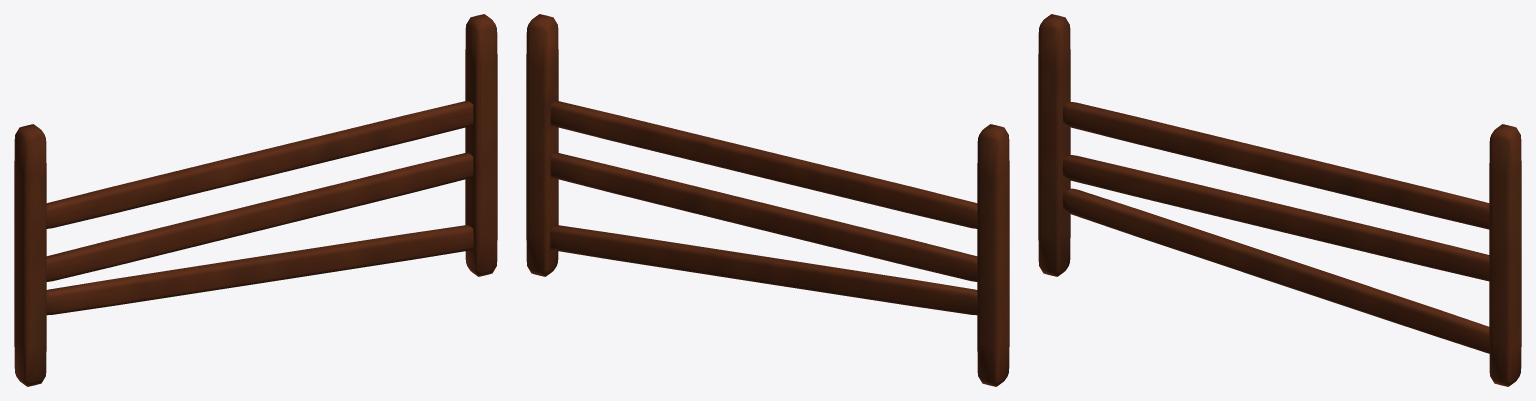
The model's file is FenceVariant02.glb.
The picture shows the model from 3 angles, left to right: view 1: azimuth 30°, elevation 25°; view 2: azimuth 150°, elevation 25°; view 3: azimuth 330°, elevation 25°; orthographic projection.
Parts seen in each view (by area): view 1: Fence.001; view 2: Fence.001; view 3: Fence.001.
Part boxes in pixels (left/top/right/bottom): Fence.001: left=14, top=14, right=497, bottom=386; Fence.001: left=526, top=14, right=1009, bottom=386; Fence.001: left=1038, top=14, right=1521, bottom=386.
Size of the model in its own units: 8.01 by 4.11 by 0.3802.
1 material, 1 textured.
